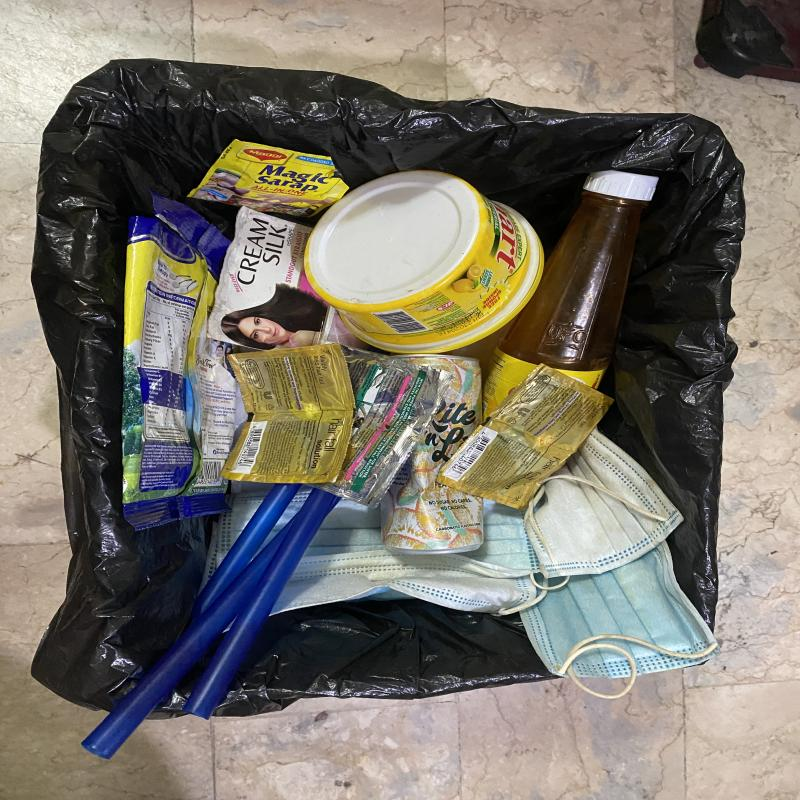aluminum: (380, 353, 484, 556)
facemask: (519, 541, 721, 700), (523, 428, 684, 579), (287, 500, 537, 587), (269, 574, 548, 617), (198, 481, 274, 596)
food wrapper: (121, 193, 247, 533)
glass bottle: (482, 170, 658, 420)
plastic container: (302, 170, 545, 355)
plastic sachet: (436, 364, 615, 511), (301, 345, 454, 510), (220, 344, 356, 485), (208, 207, 335, 350), (187, 139, 350, 218)
plastic straw: (81, 518, 294, 761), (182, 489, 341, 721), (183, 483, 301, 635)
